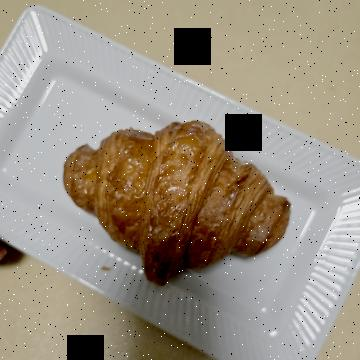croissant: (97, 66, 284, 310)
